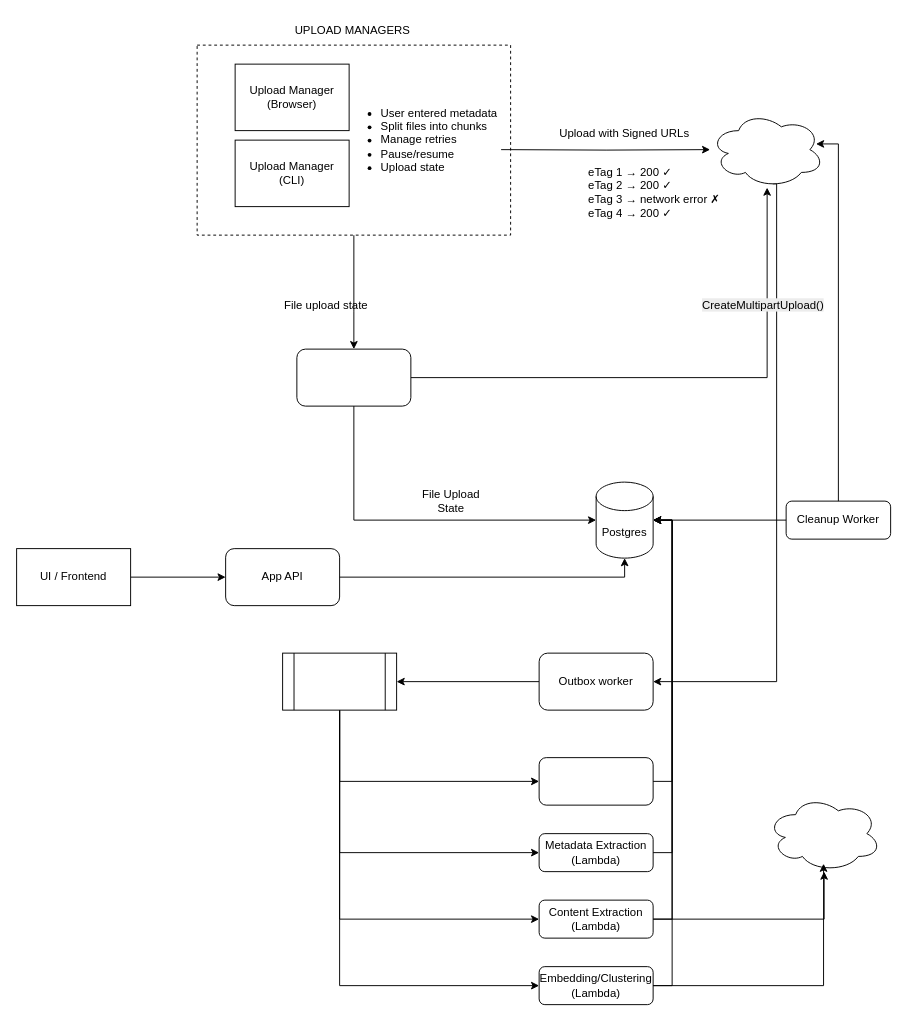
Some shapes in this 907 by 1021 pixel diagram are drawn without their labels. Each missing label, with the centre of its shape:
"Classification (Lambda)" goes at point (595, 781).
"Kafka/SQS (Fan Out)" goes at point (339, 681).
"LLM (On premise?)" goes at point (823, 833).
"S3" goes at point (766, 149).
"Upload API" goes at point (353, 377).
